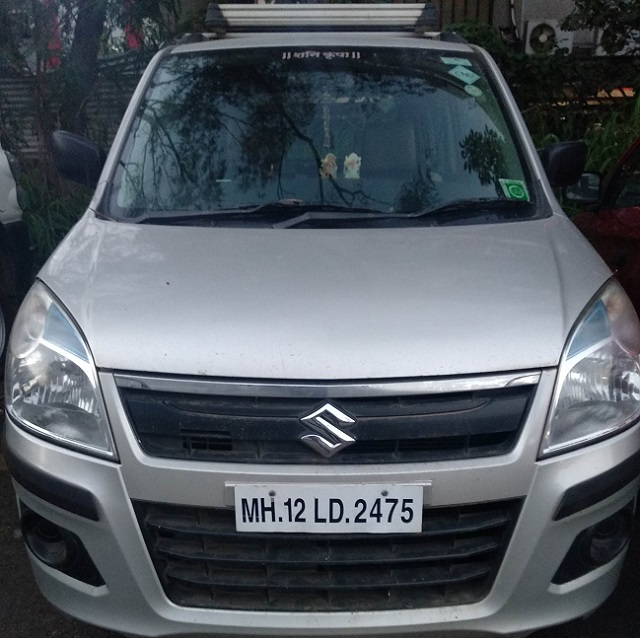licenseplate: (235, 483, 434, 539)
